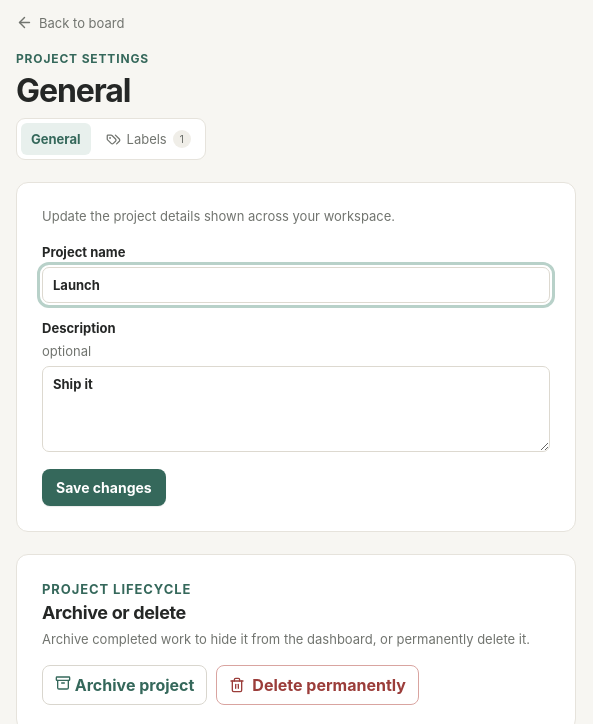
Test: ProjectSettingsPage label mutations › reports a failed label creation instead of silently clearing the draft
Click the button "Labels 1".
click(148, 139)  # box x1=96 y1=123 x2=201 y2=155
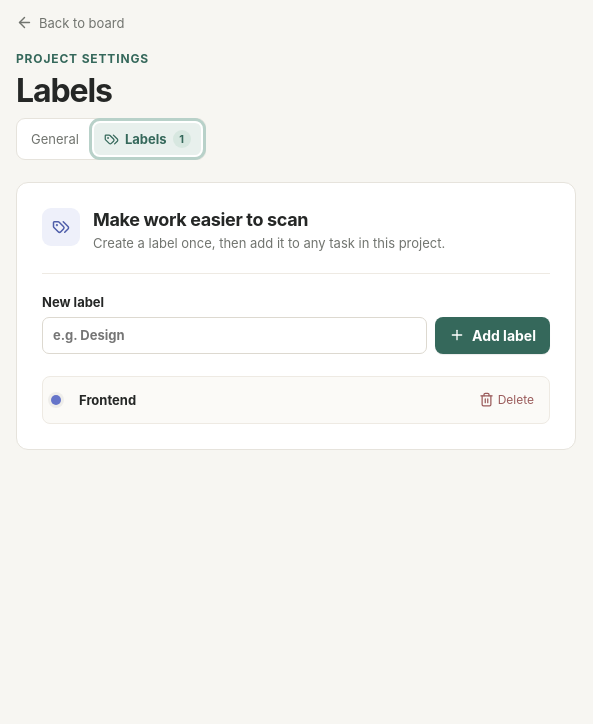
Type "Design" into the field labelled "New label".
click(234, 335); type("Design")  # box x1=42 y1=317 x2=427 y2=354
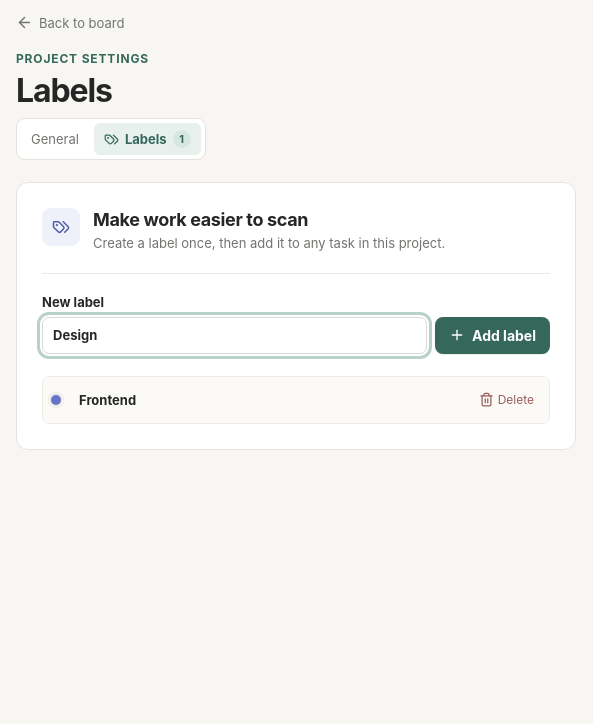
Click the button with aria-label "Create label".
click(492, 335)  # box x1=435 y1=317 x2=550 y2=354
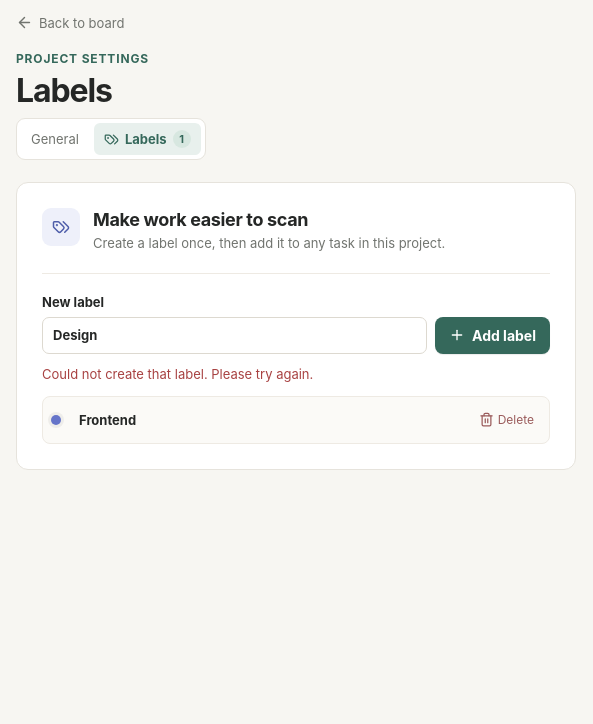
Now the message shows "Could not create that label", box x1=42 y1=366 x2=313 y2=382
